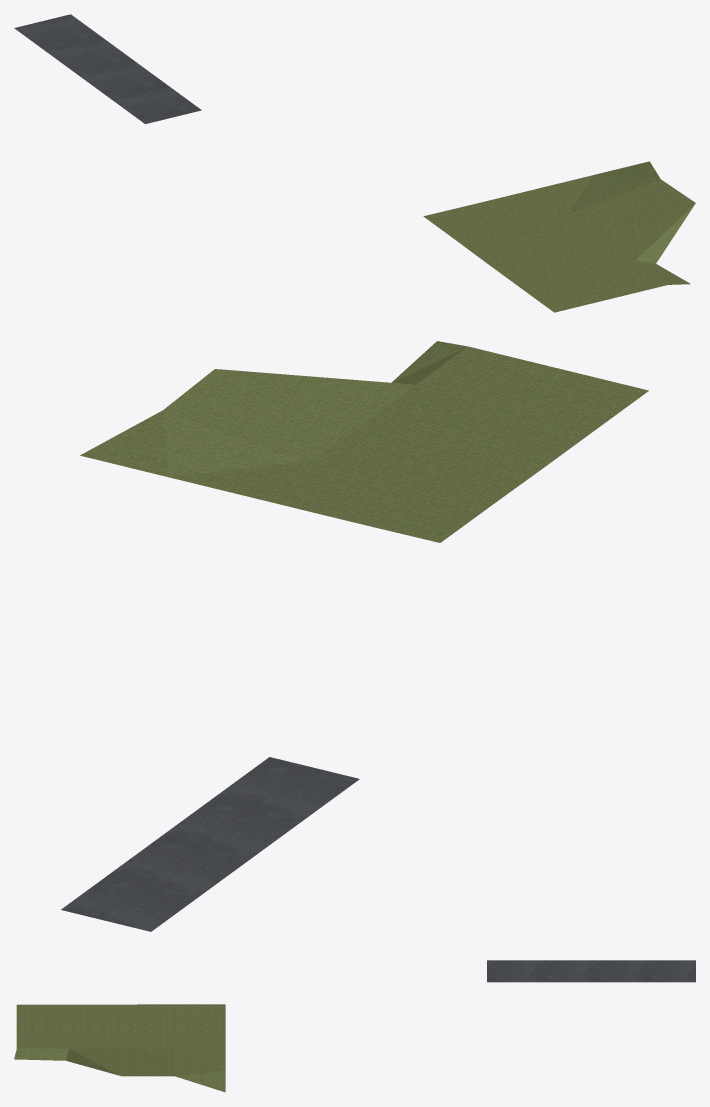
The model's file is vegassedge27.obj.
3 views of the same model, one above another, from view 1: azimuth 30°, elevation 25°; view 2: azimuth 150°, elevation 25°; view 3: azimuth 270°, elevation 25° (orthographic). The views are drawn at different scales.
Visible parts, largest first — view 1: vegasSedge27; view 2: vegasSedge27; view 3: vegasSedge27.
Part boxes in pixels (bbox=[...]): vegasSedge27: bbox=[14, 14, 695, 312]; vegasSedge27: bbox=[61, 341, 648, 931]; vegasSedge27: bbox=[14, 960, 695, 1092].
Size of the model in its own units: 120 by 5.75 by 261.
2 materials, 2 textured.
